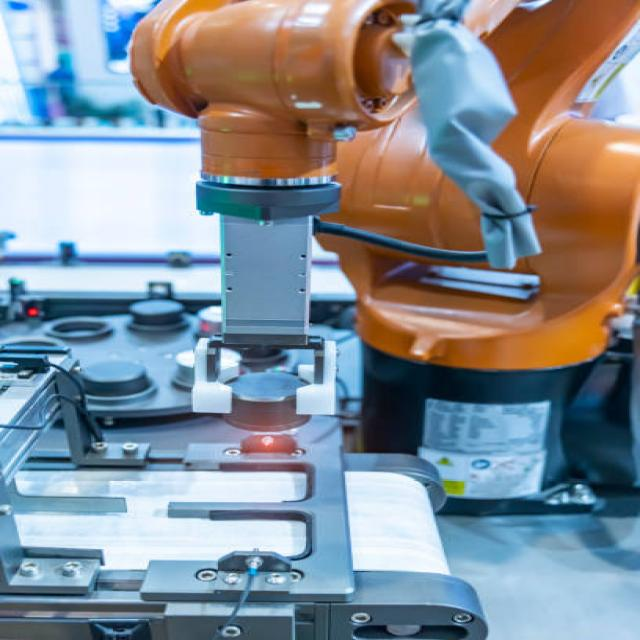Robotic-arm: (100, 0, 640, 524)
